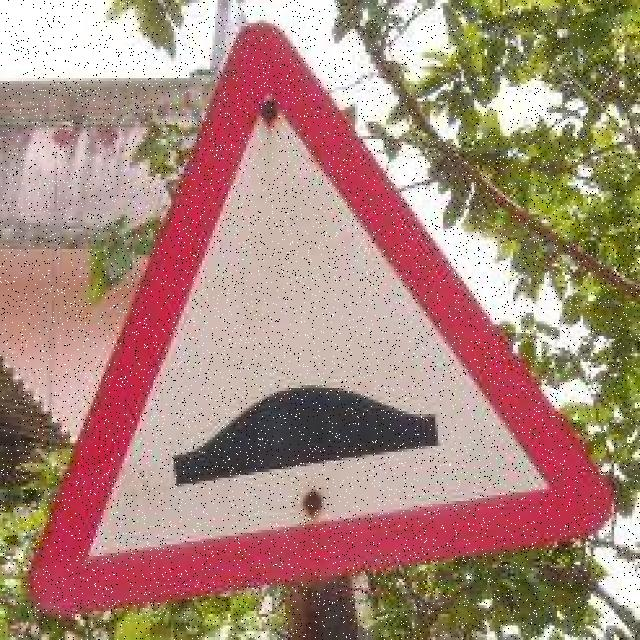Bump: (19, 28, 619, 620)
